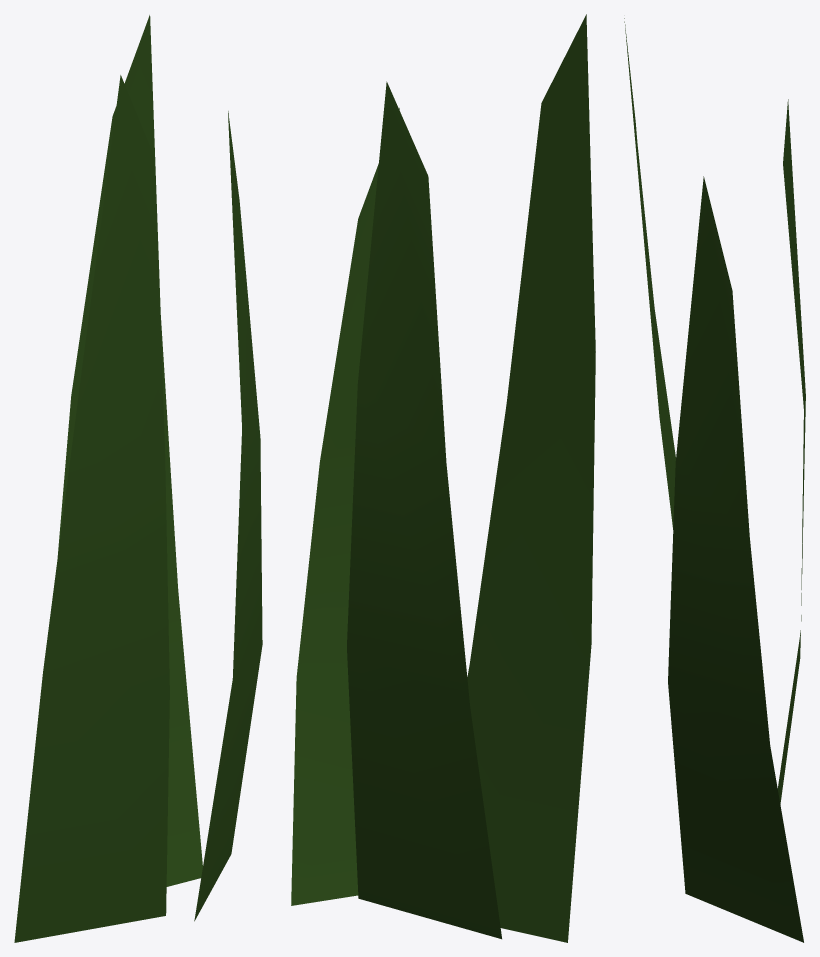
Rendered from cesped7.glb.
3 renders of one model, left to right at view 1: azimuth 30°, elevation 25°; view 2: azimuth 150°, elevation 25°; view 3: azimuth 270°, elevation 25°, orthographic. The views are drawn at different scales.
Parts seen in each view (by area): view 1: cesped7; view 2: cesped7; view 3: cesped7.
Part boxes in pixels (x1,y1,x2,y2): cesped7: (14, 15, 262, 942); cesped7: (291, 14, 595, 942); cesped7: (624, 18, 805, 942).
Size of the model in its own units: 0.1958 by 0.6446 by 0.1261.
